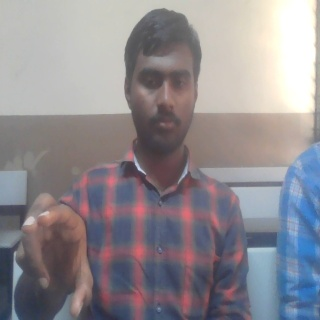Face: (123, 8, 204, 154)
No: (14, 191, 96, 318)
